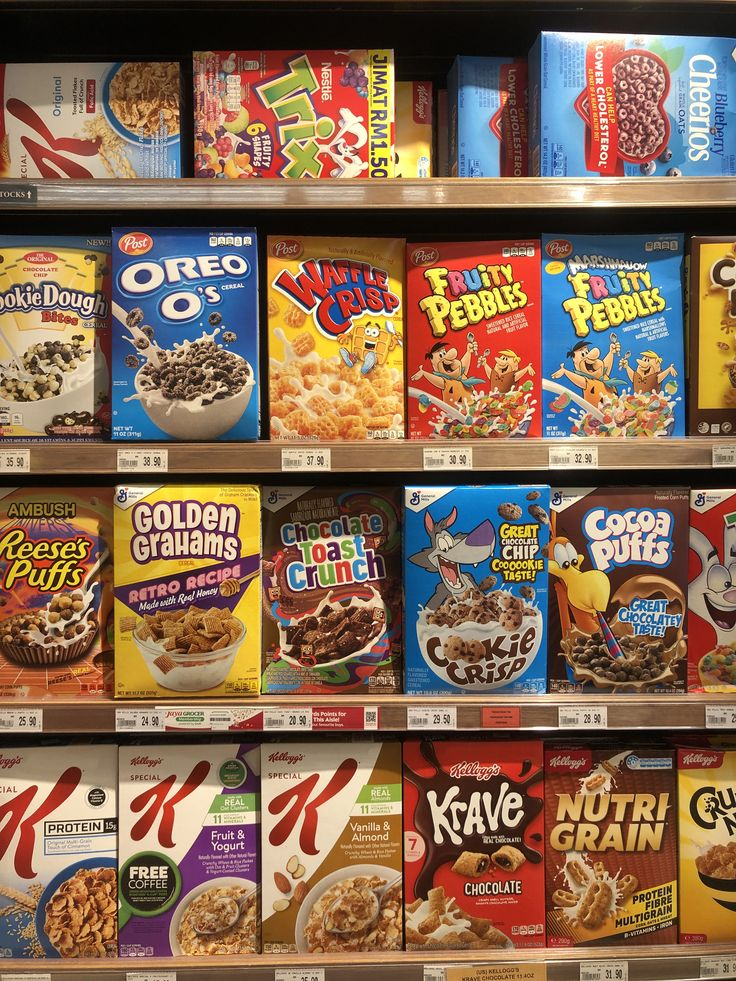Cocoa Puffs: (556, 480, 690, 677)
Fruity Pebbles: (408, 243, 539, 413)
Golden Grahams: (114, 485, 257, 683)
Krave: (396, 738, 549, 935)
Nutri Grain: (553, 770, 675, 934)
Oreo Os: (106, 220, 264, 457)
Waffle Crisp: (273, 231, 405, 434)
